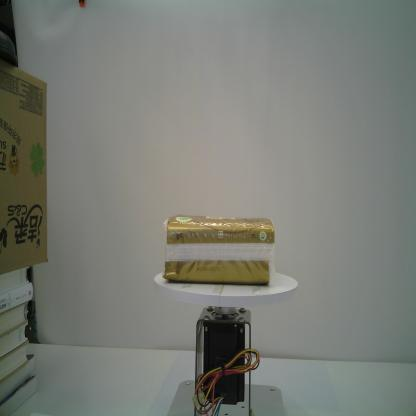Tissue: (160, 214, 276, 285)
